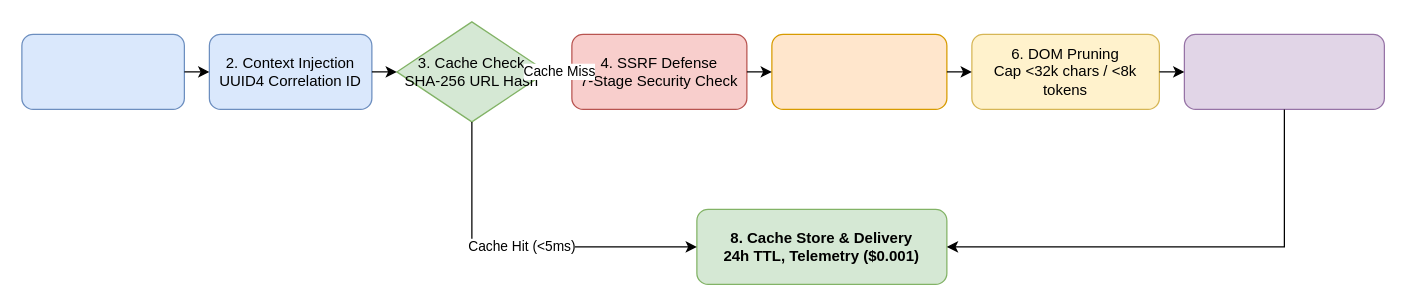
This 1406x306 diagram has some shape labels left out. Each missing label, with the centre of its shape:
1. Request Ingress POST /link-analysis: (102,71)
5. Async HTTPX Fetch <=5MB Ceiling, 10s SLA: (859,71)
7. Circuit Breaker Gemini 1.5 Flash / Fallbacks: (1283,71)
